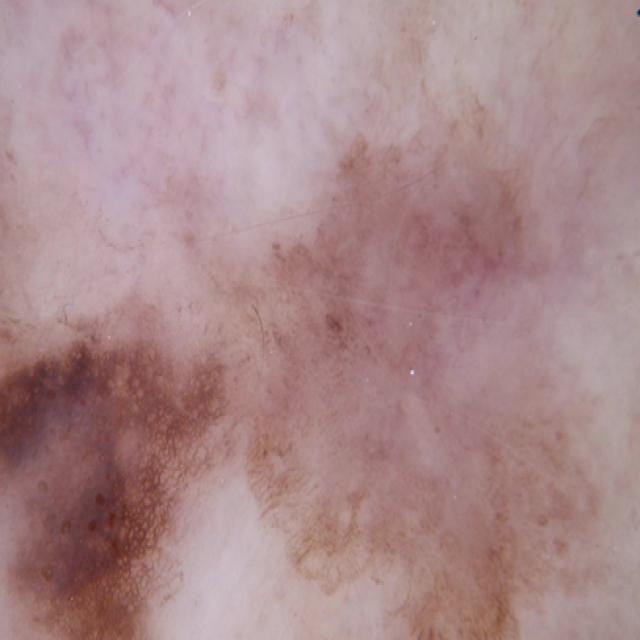Keratosis: (0, 307, 230, 640)
